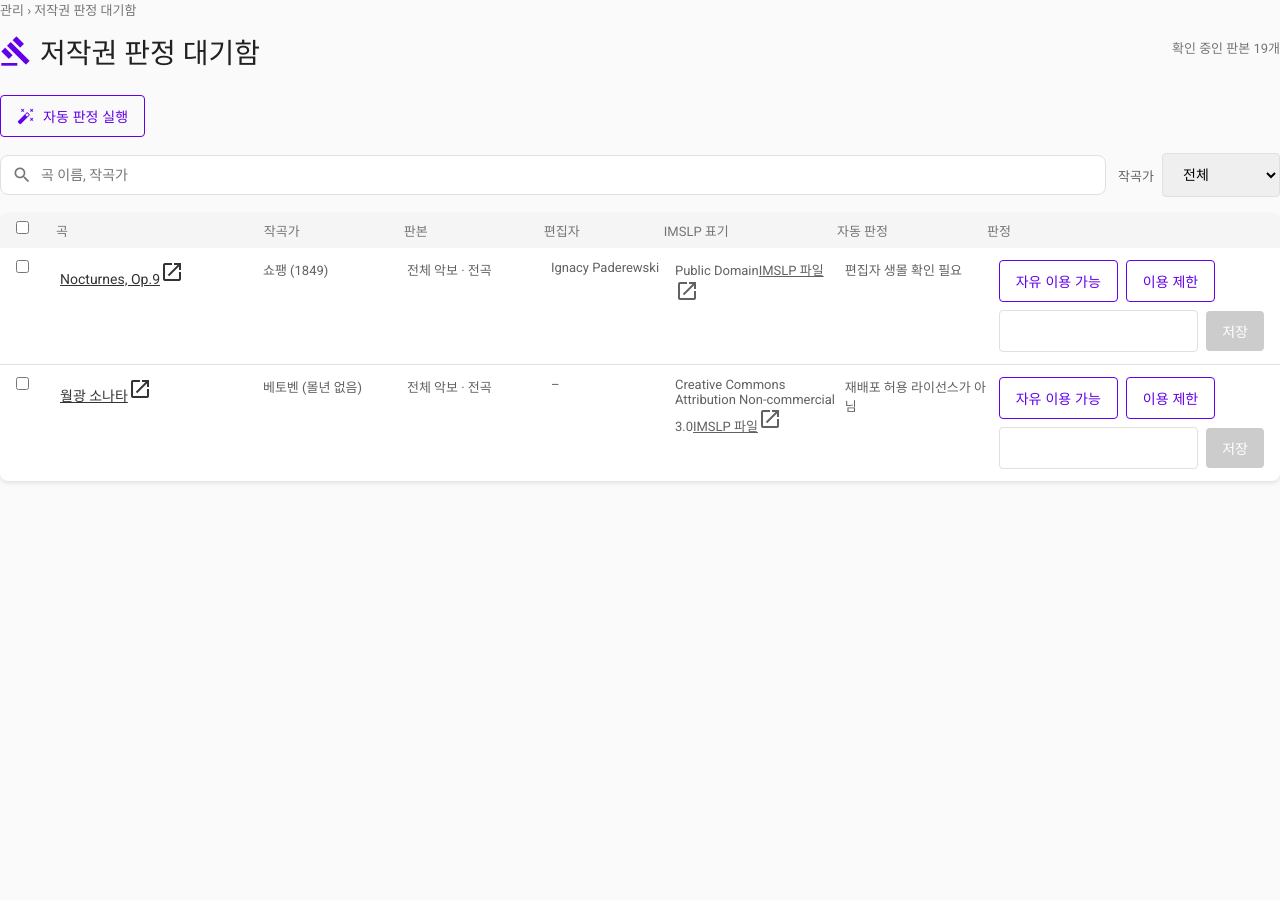
Test: CopyrightPendingPage — 일괄 판정 › 적용 → 확인 대화상자(메모 미리보기) → POST bulk → 행들이 사라지고 '2개를 판정했어요'
Click the checkbox named "전체 선택": click(22, 228) [16, 221, 29, 234]
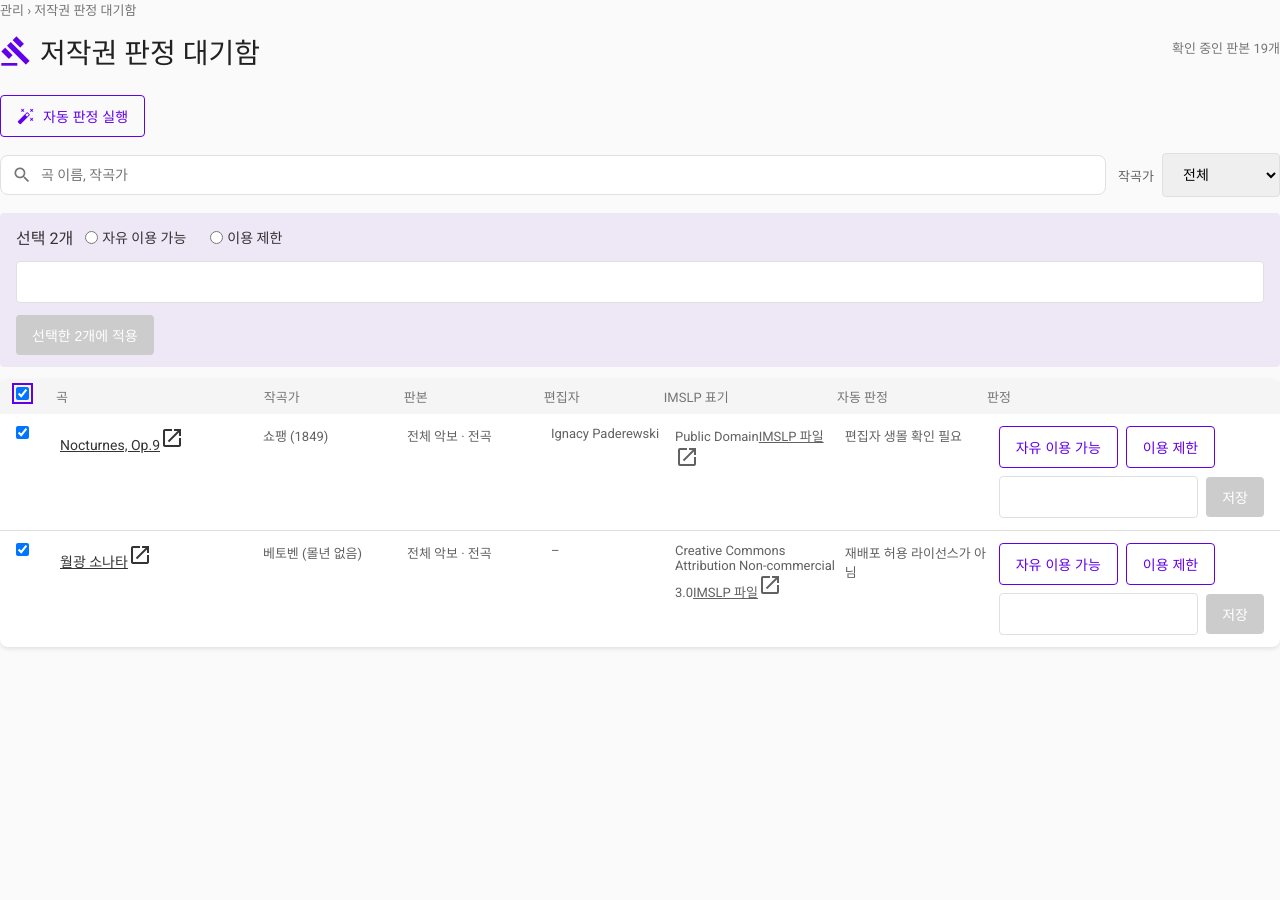
Click the radio button labelled "자유 이용 가능": click(92, 237) [85, 230, 98, 244]
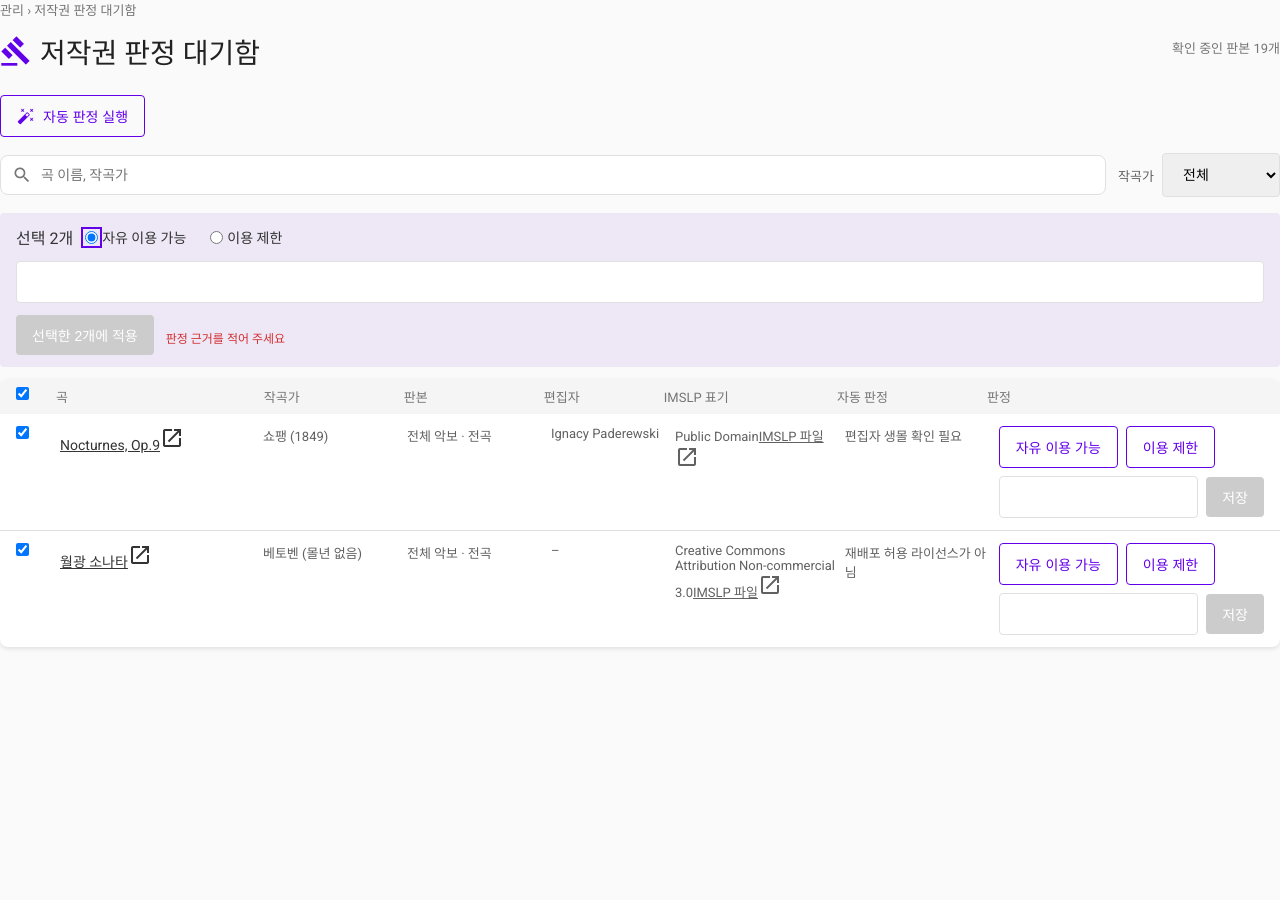
In the field named "일괄 판정 메모": (640, 282) [16, 261, 1264, 303], type "작곡가 1849 사망, 편집자 1941 사망 → 경과"
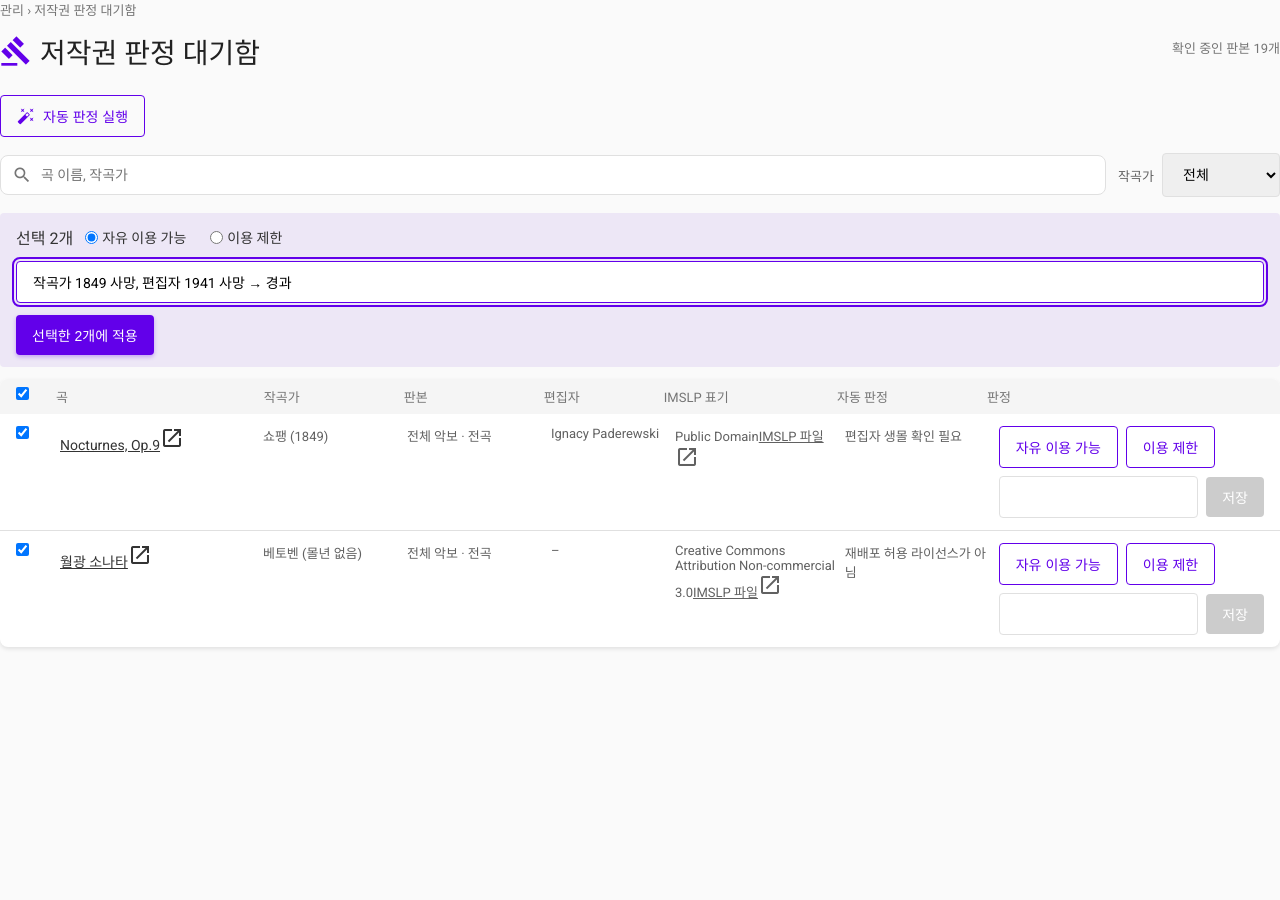
Click the button "선택한 2개에 적용": click(85, 335) [16, 315, 154, 355]
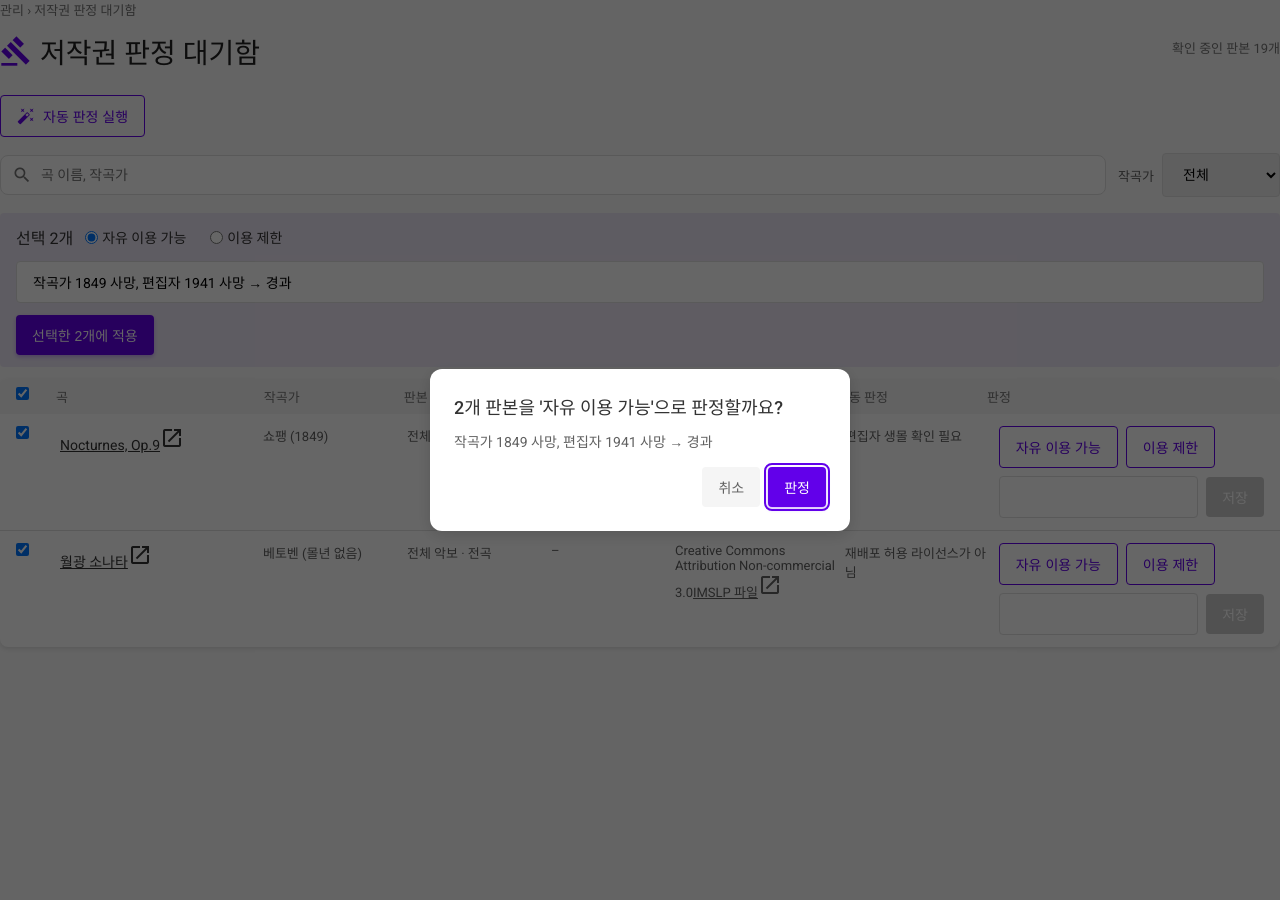
Now the dialog "2개 판본을 '자유 이용 가능'으로 판정할까요?" shows "작곡가 1849 사망, 편집자 1941 사망 → 경과", box [454, 434, 713, 450]
Click the button "판정": click(797, 487) [768, 467, 826, 507]
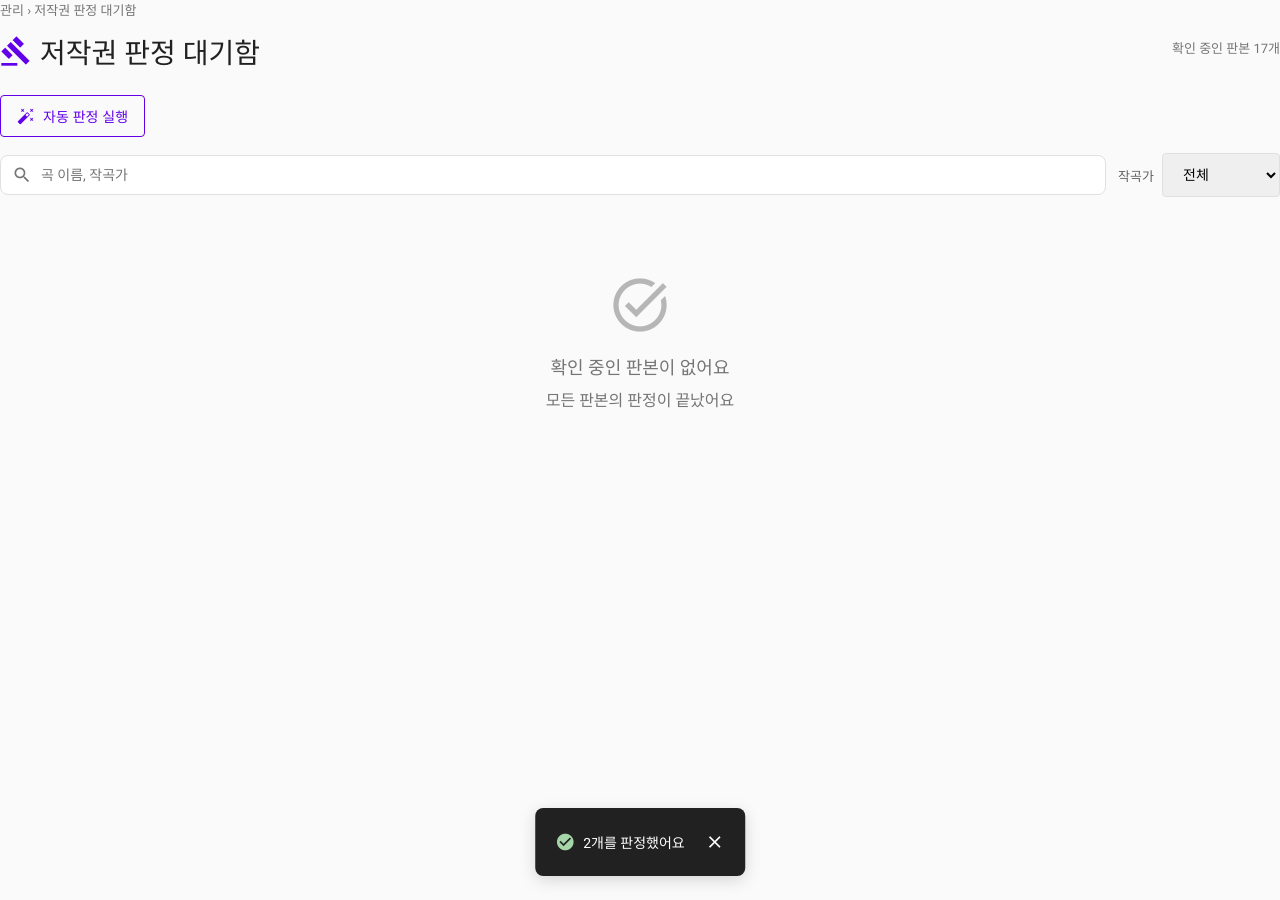
Now the element with test id "pending-row-305" is gone
Now the element with test id "pending-row-306" is gone
Now the text "2개를 판정했어요" is shown, box [583, 832, 685, 852]
